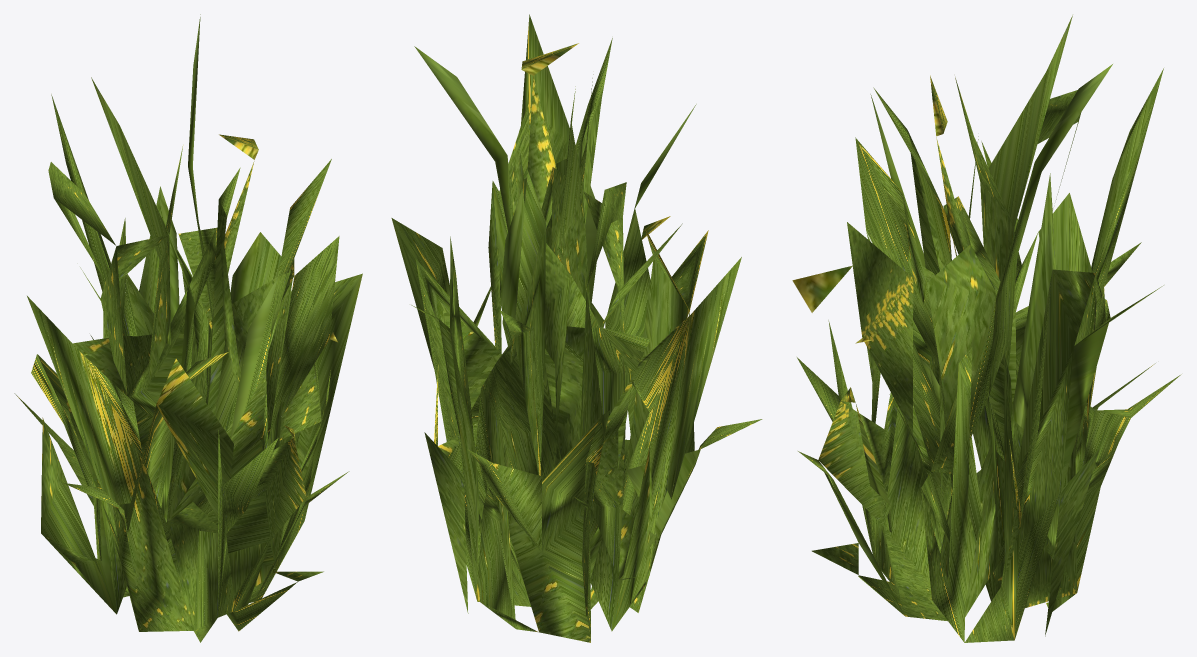
Rendered from grass_tall.glb.
3 views of the same model, side by side, from view 1: azimuth 30°, elevation 25°; view 2: azimuth 150°, elevation 25°; view 3: azimuth 270°, elevation 25° (orthographic). The views are drawn at different scales.
Size of the model in its own units: 0.6133 by 0.9575 by 0.5801.
Materials: 1 (1 with a texture image).
